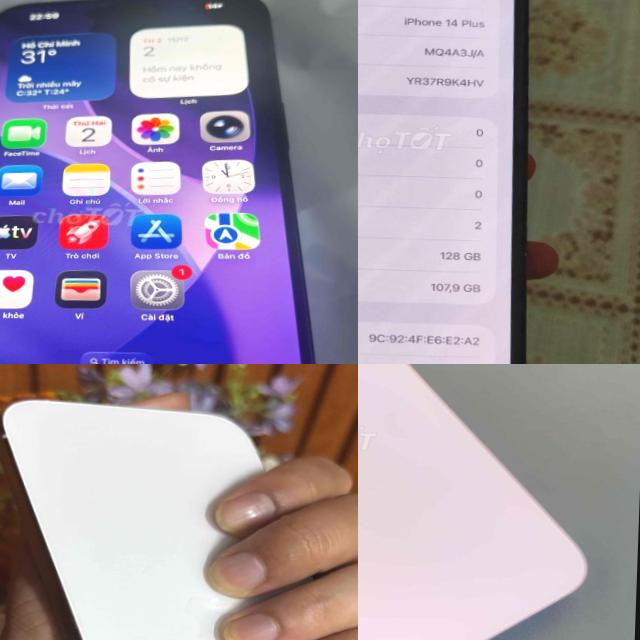gen_14: (358, 0, 553, 364)
gen_15: (0, 0, 356, 364), (358, 364, 606, 640)
gen_16: (0, 399, 261, 640)
